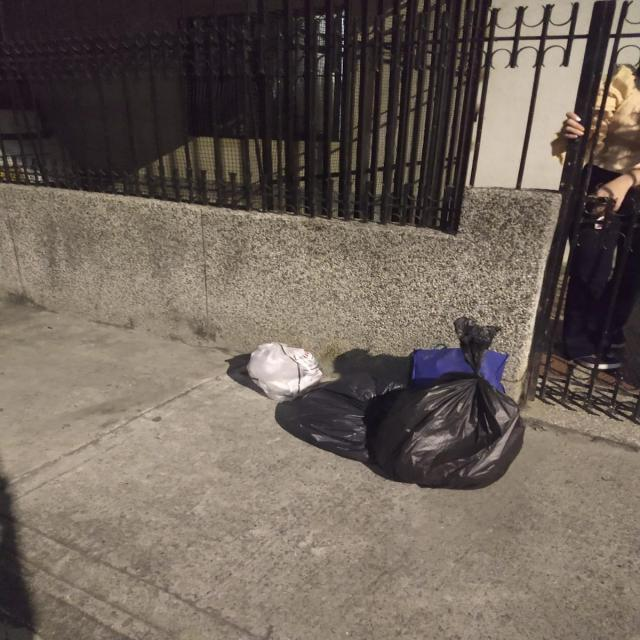Trashbag: (384, 356, 524, 496), (278, 366, 377, 473)
